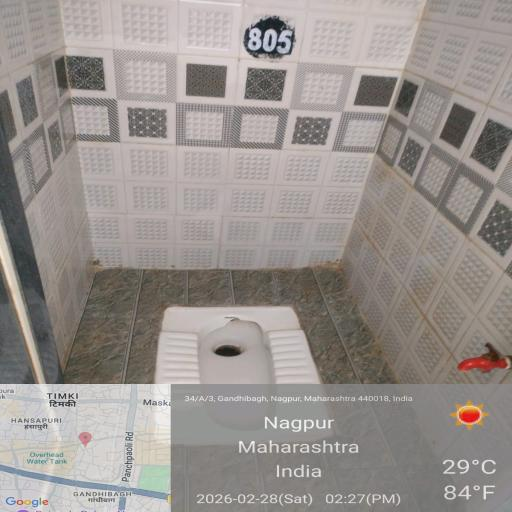clean_floor: (13, 5, 512, 260), (24, 282, 145, 512)
clean_indian: (145, 292, 352, 456)
